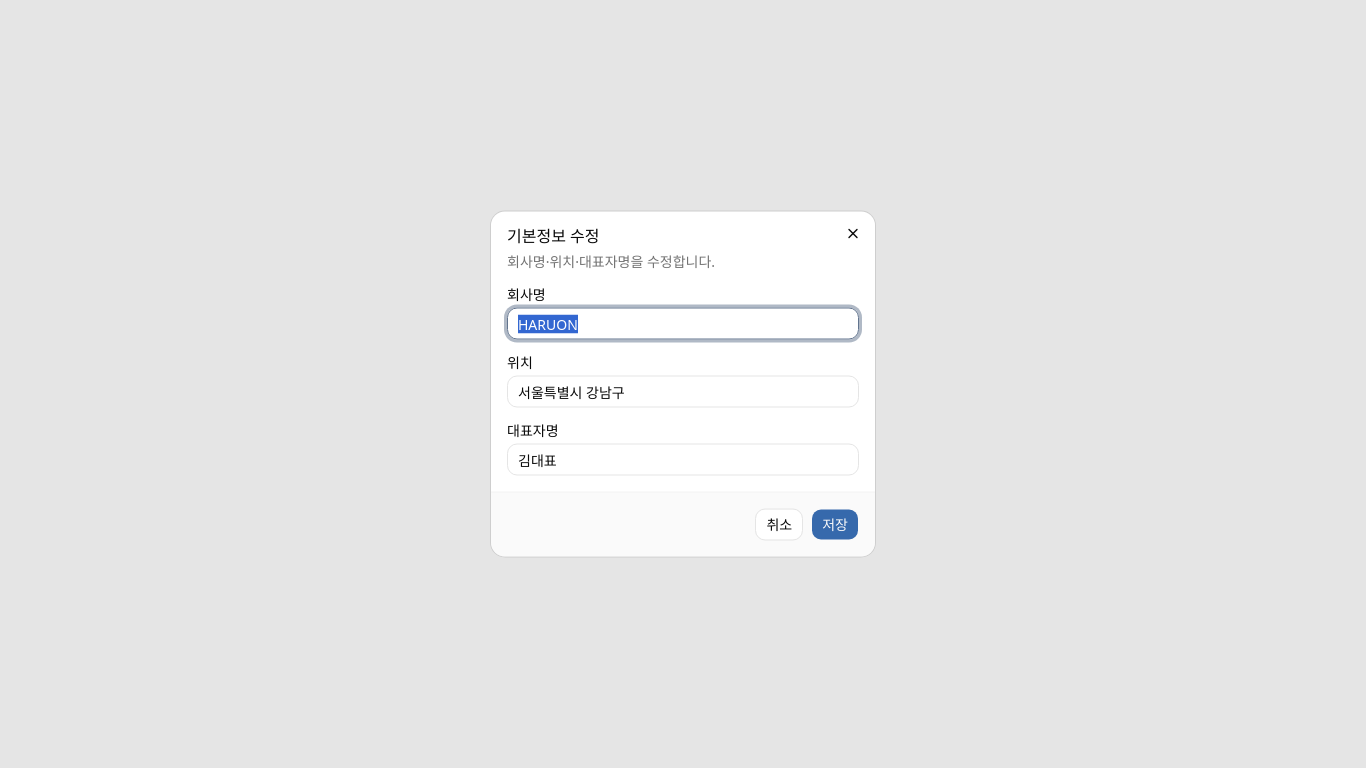
Test: CompanyInfoEditDialog › 서버 실패 시 다이얼로그가 닫히지 않고 root 에러가 표시된다(실패가 삼켜지지 않음)
Replace the text in the field labelled "회사명" with "하루온 주식회사" at (683, 324), box [507,308,859,340]
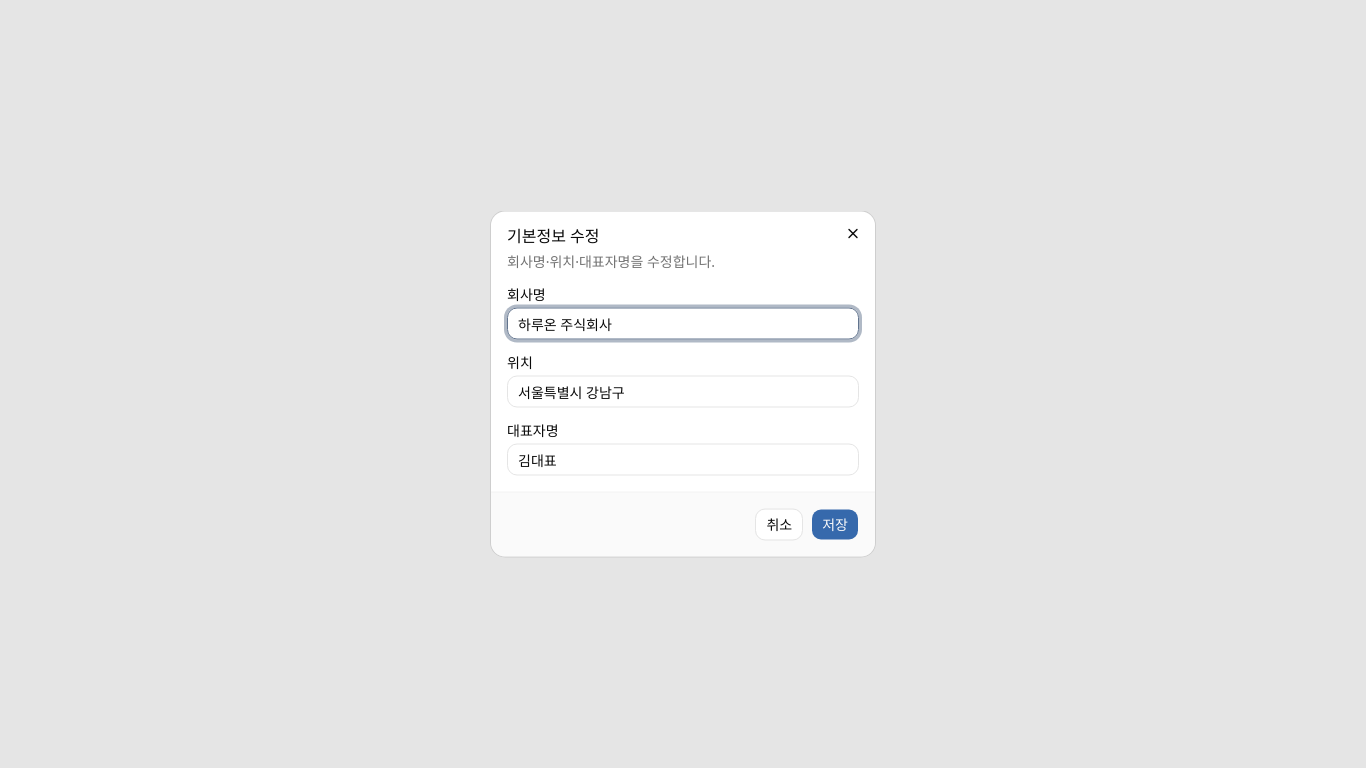
Click the button "저장".
click(835, 524)  # box [811,508,859,540]
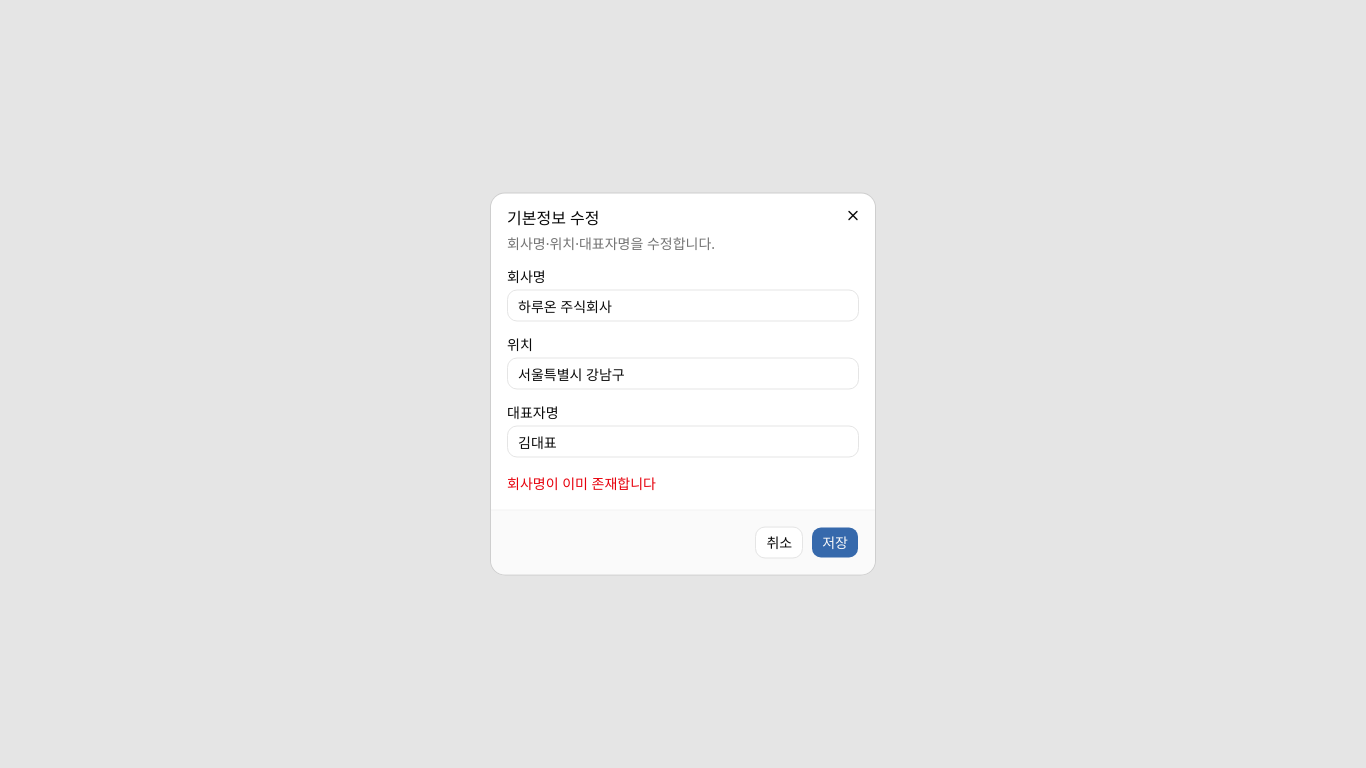
Check: the text "회사명이 이미 존재합니다" is shown, box [507,474,656,492]
